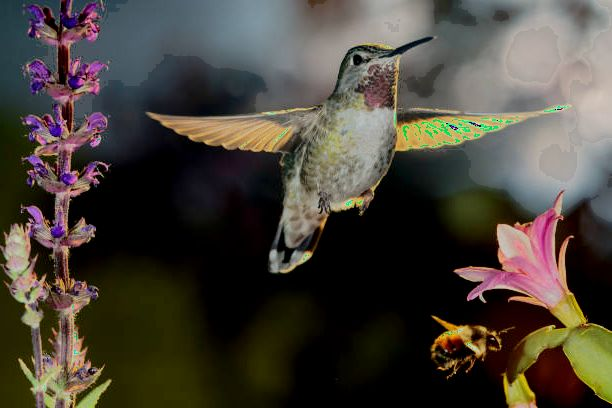Bird: (143, 29, 575, 281)
